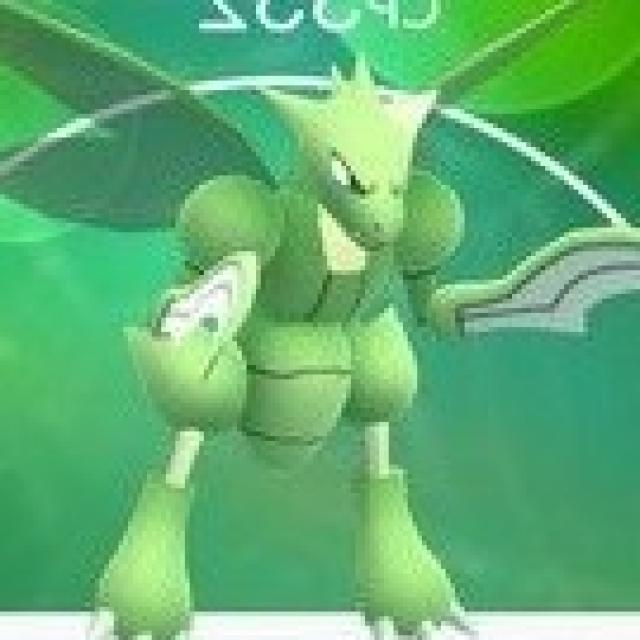Scyther: (83, 61, 544, 630)
